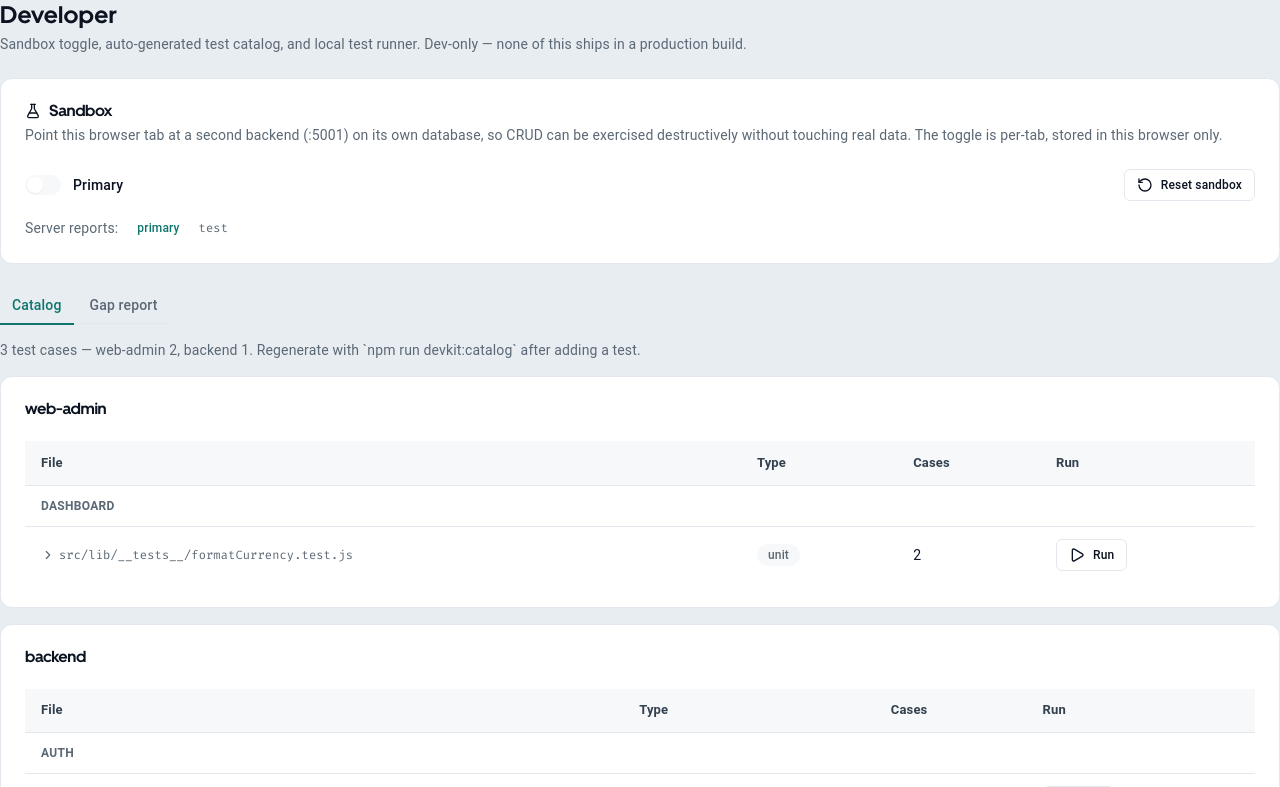
Test: DeveloperPage › runs the reset-sandbox action through the runner and shows its output
Click the button "Reset sandbox". click: (1189, 185)
box: top-left (1124, 169), bottom-right (1255, 201)
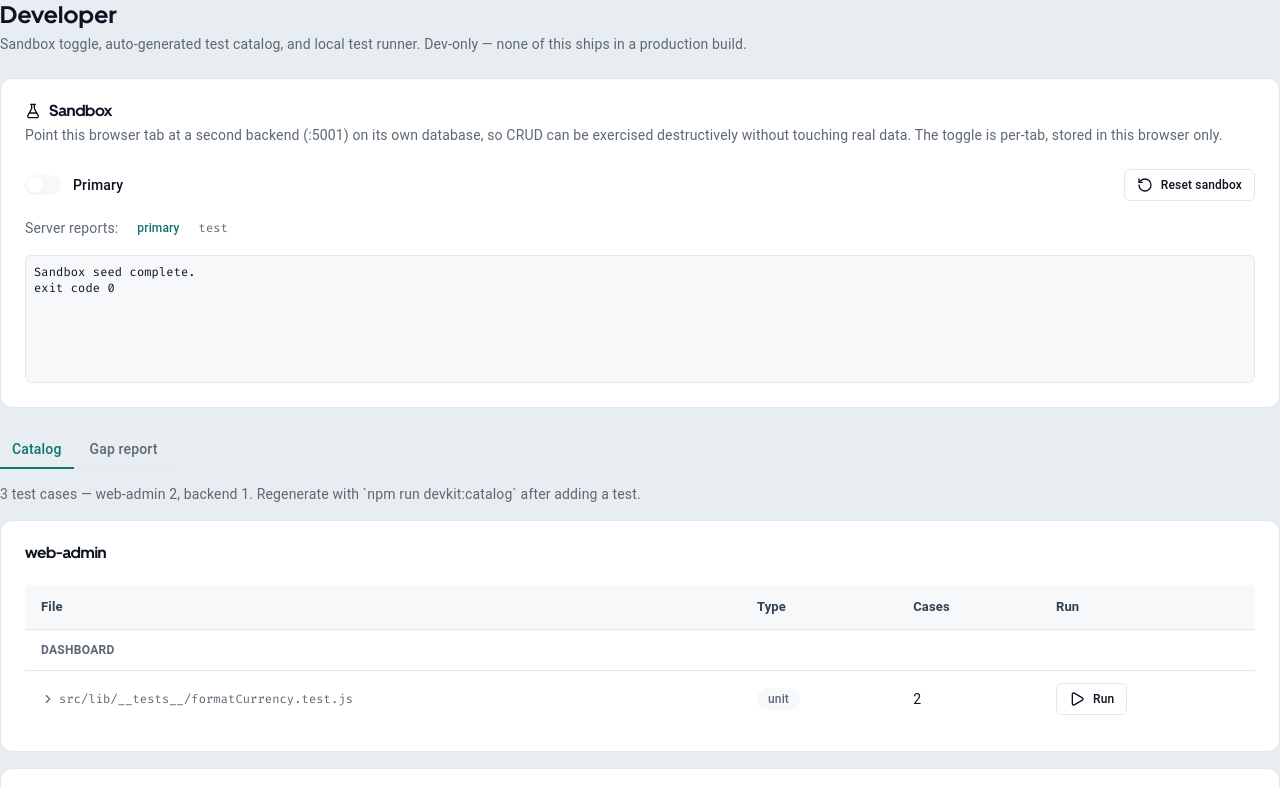
expect the text "Sandbox seed complete. exit code 0" is shown: met, box top-left (34, 264), bottom-right (196, 296)
